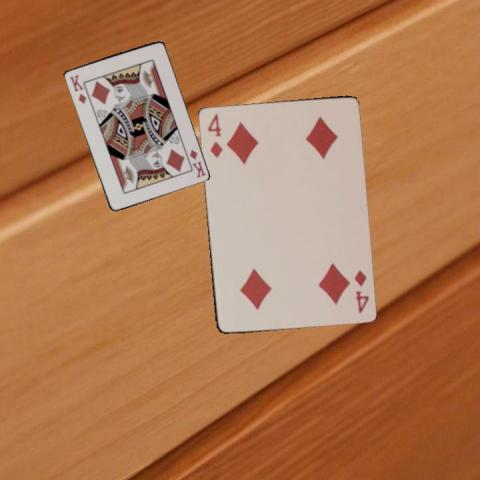4d: (204, 111, 224, 159), (351, 267, 370, 314)
Kd: (186, 146, 207, 179), (67, 71, 87, 105)
